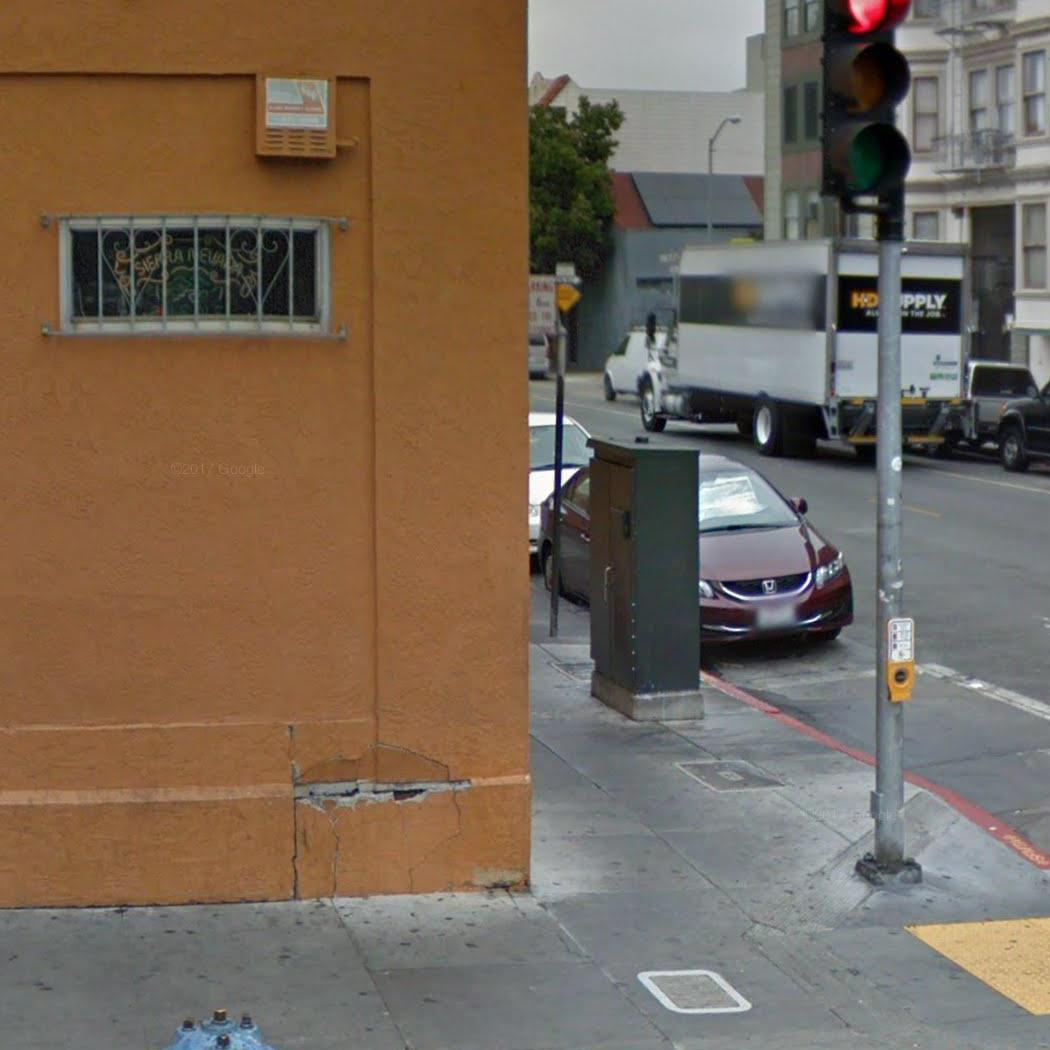No Parking: (523, 273, 559, 339)
